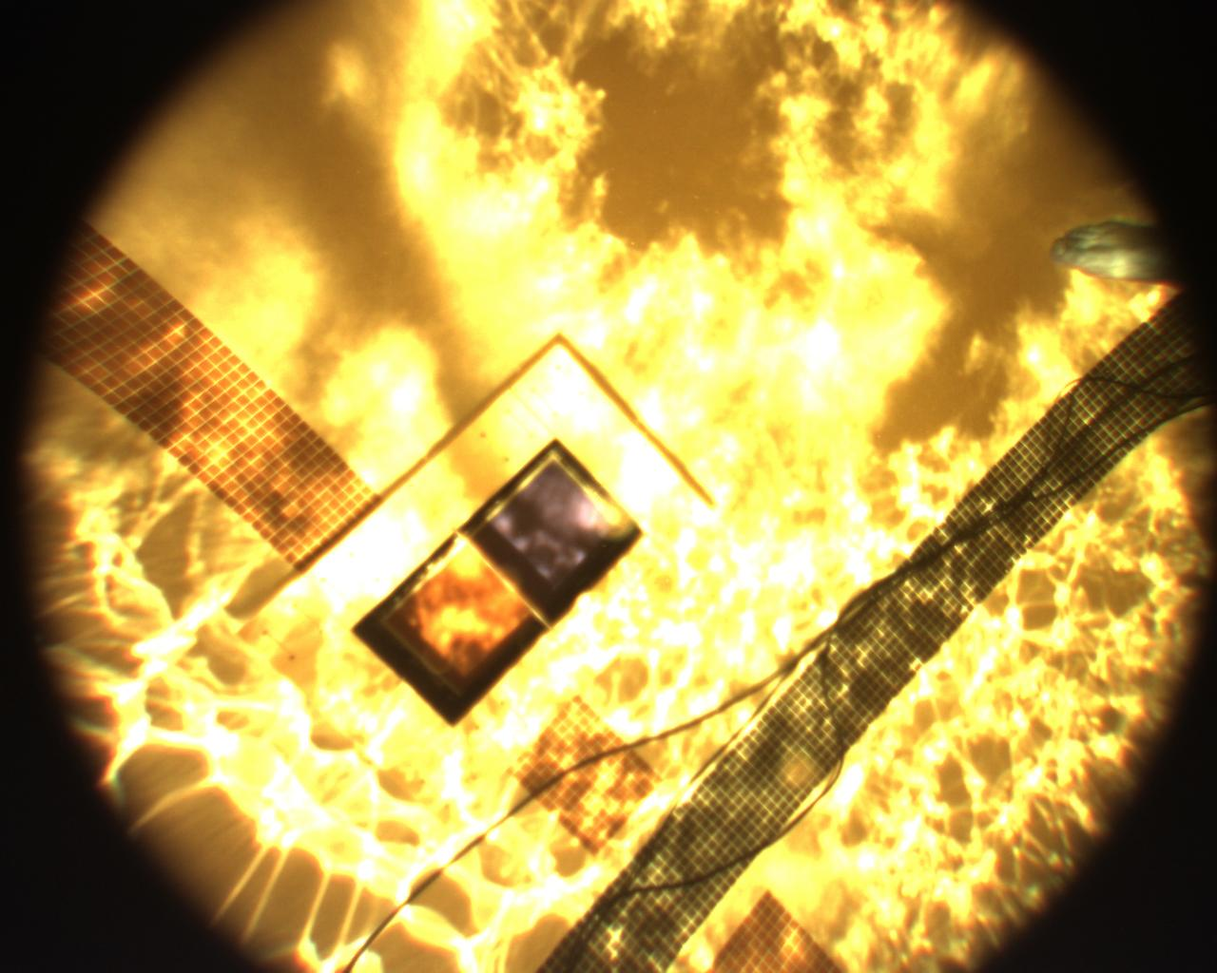dropper-box-top: (247, 335, 705, 766)
